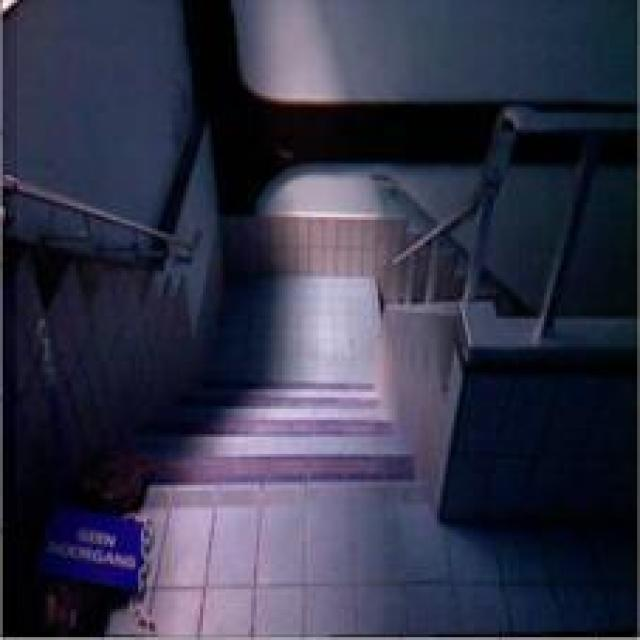downstair: (108, 373, 424, 514)
